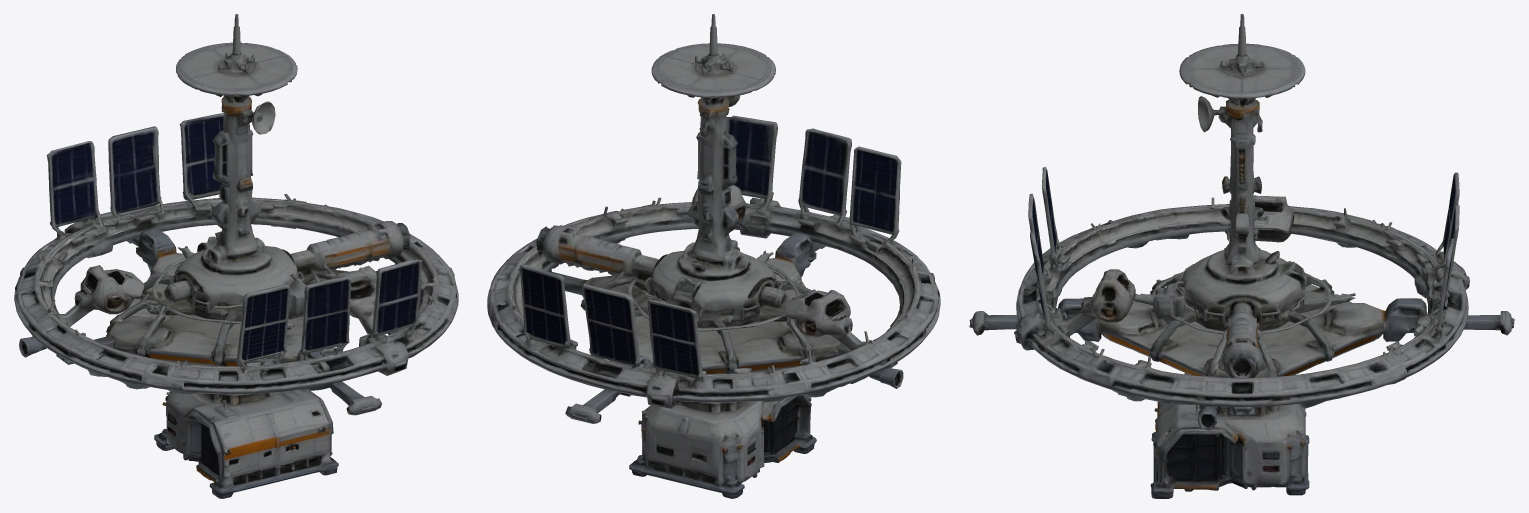
The model's file is station.3ec173546a.glb.
3 views of the same model, side by side, from view 1: azimuth 30°, elevation 25°; view 2: azimuth 150°, elevation 25°; view 3: azimuth 270°, elevation 25° (orthographic). The views are drawn at different scales.
Visible parts, largest first — view 1: tripo_node_7c509a31-fe9e-48b6-a97c-c915e561304d; view 2: tripo_node_7c509a31-fe9e-48b6-a97c-c915e561304d; view 3: tripo_node_7c509a31-fe9e-48b6-a97c-c915e561304d.
Part boxes in pixels (bbox=[...]): tripo_node_7c509a31-fe9e-48b6-a97c-c915e561304d: bbox=[14, 14, 458, 498]; tripo_node_7c509a31-fe9e-48b6-a97c-c915e561304d: bbox=[487, 14, 940, 498]; tripo_node_7c509a31-fe9e-48b6-a97c-c915e561304d: bbox=[969, 14, 1514, 498].
Bounding box in the file's own units: 0.8646 × 0.9215 × 1.
Materials: 1 (1 with a texture image).
